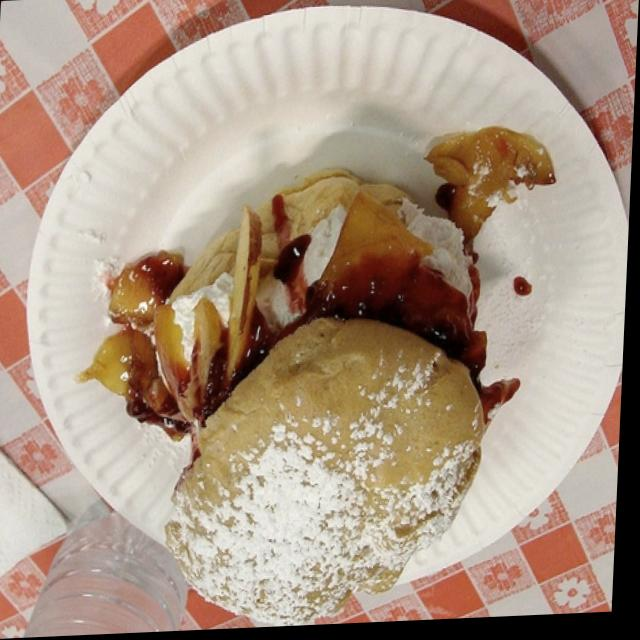炸货点心: (9, 0, 640, 639)
蛋糕甜品: (9, 0, 640, 639)
